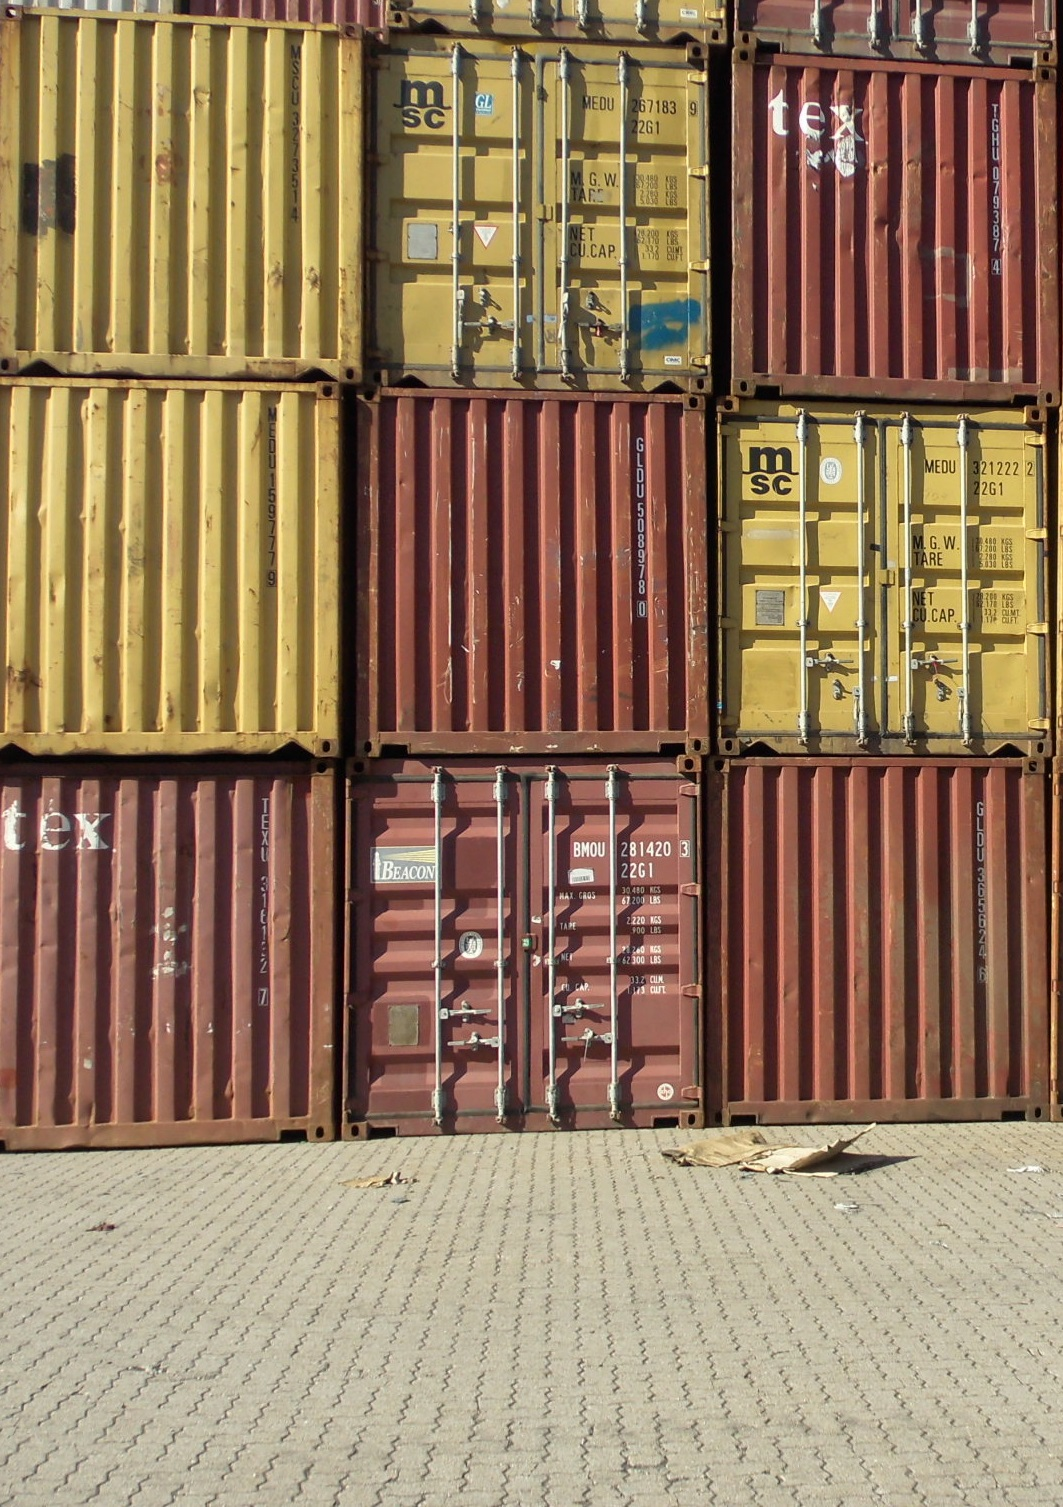container_door: (354, 744, 696, 1137), (360, 39, 735, 378), (712, 400, 1050, 762)
container_no_door: (350, 377, 704, 748), (706, 758, 1063, 1125), (1, 378, 344, 758), (1, 764, 344, 1143), (6, 17, 362, 372), (725, 56, 1063, 398)
